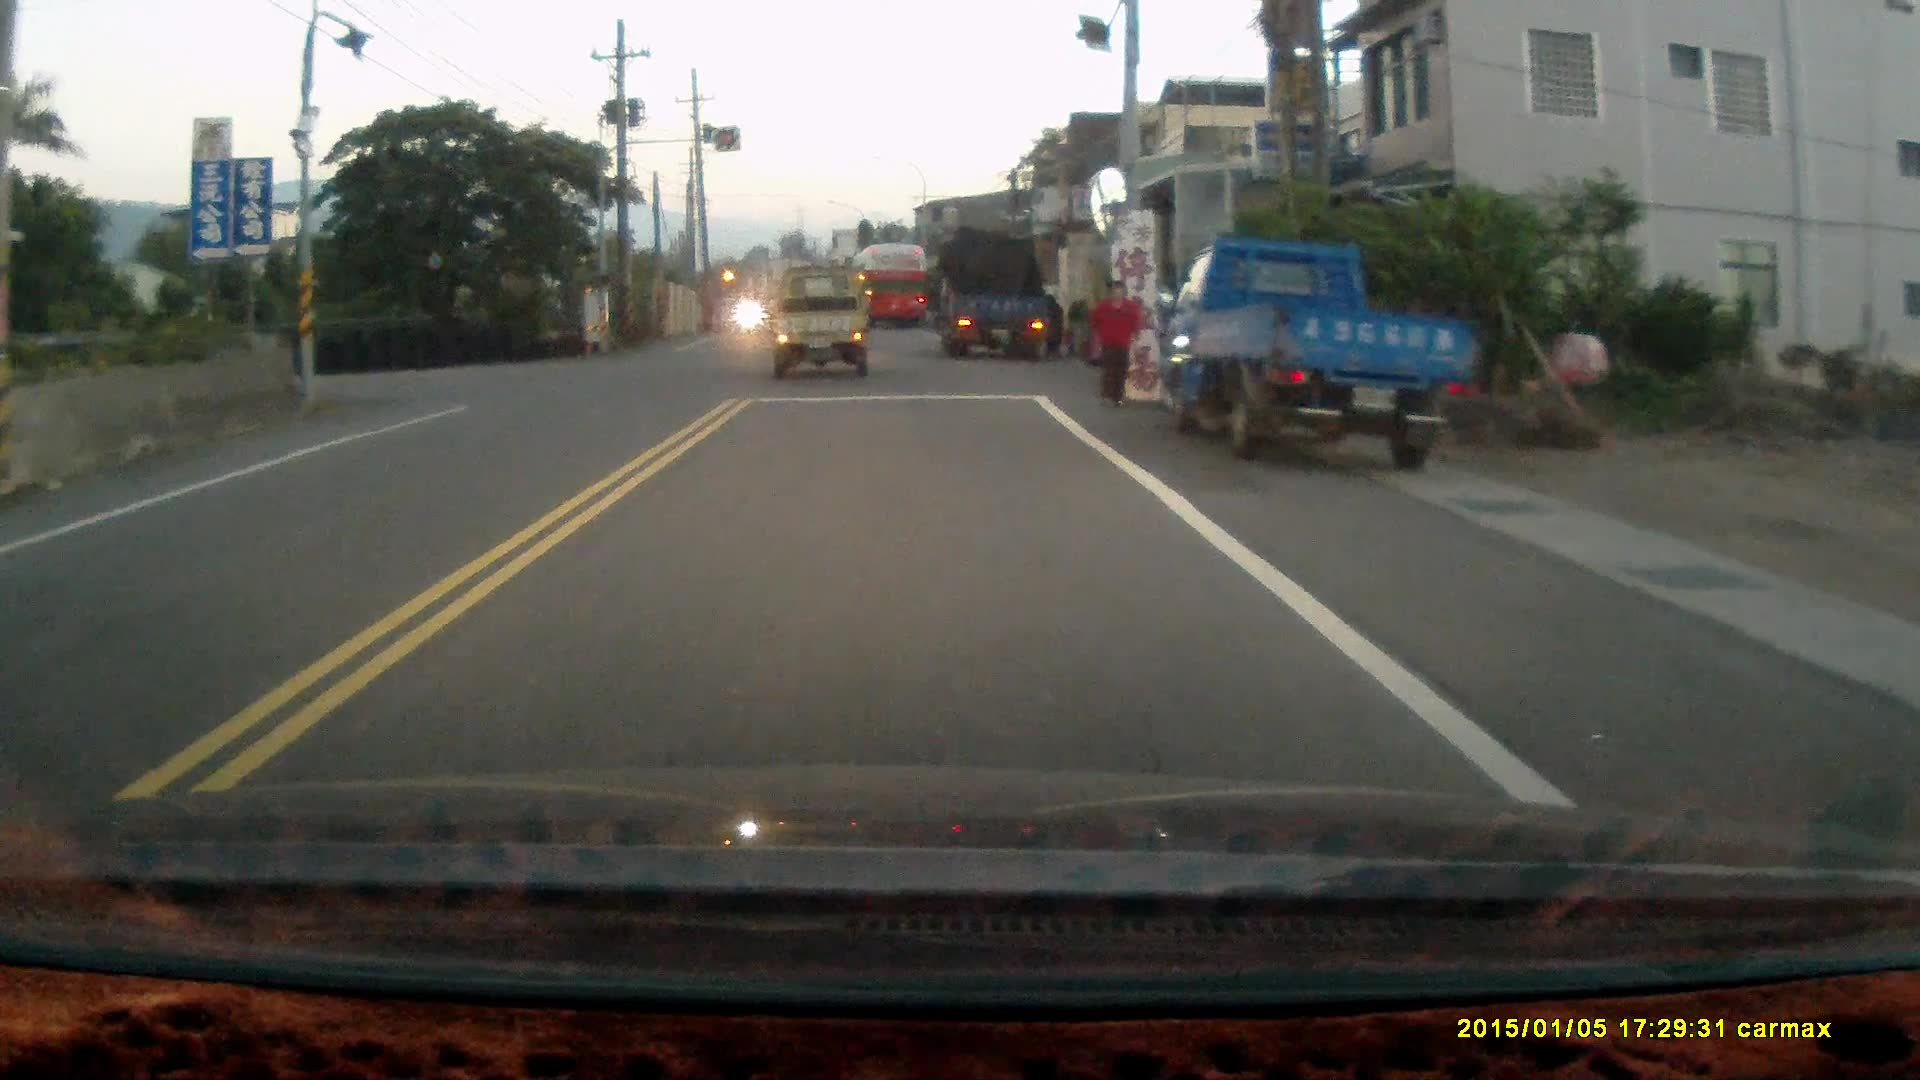pedestrian: (1086, 279, 1143, 414)
rider: (733, 287, 761, 342)
vehicle: (1157, 234, 1486, 466), (938, 233, 1055, 366), (773, 265, 875, 377), (857, 244, 936, 326)
